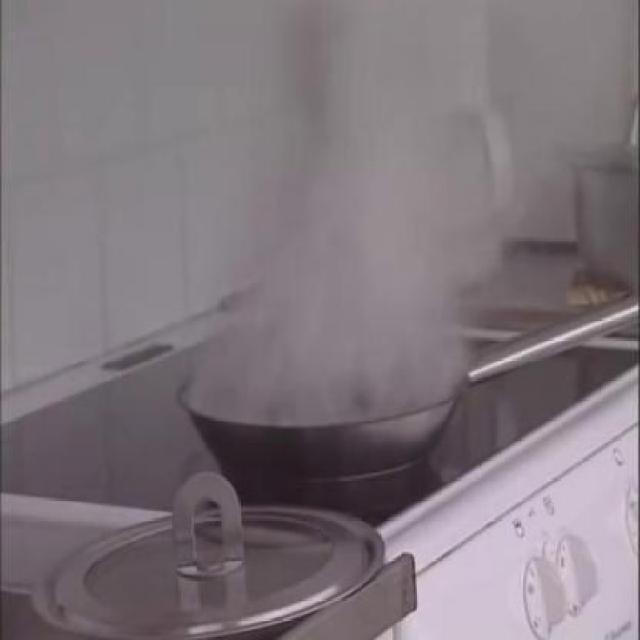smoke: (194, 97, 460, 420)
